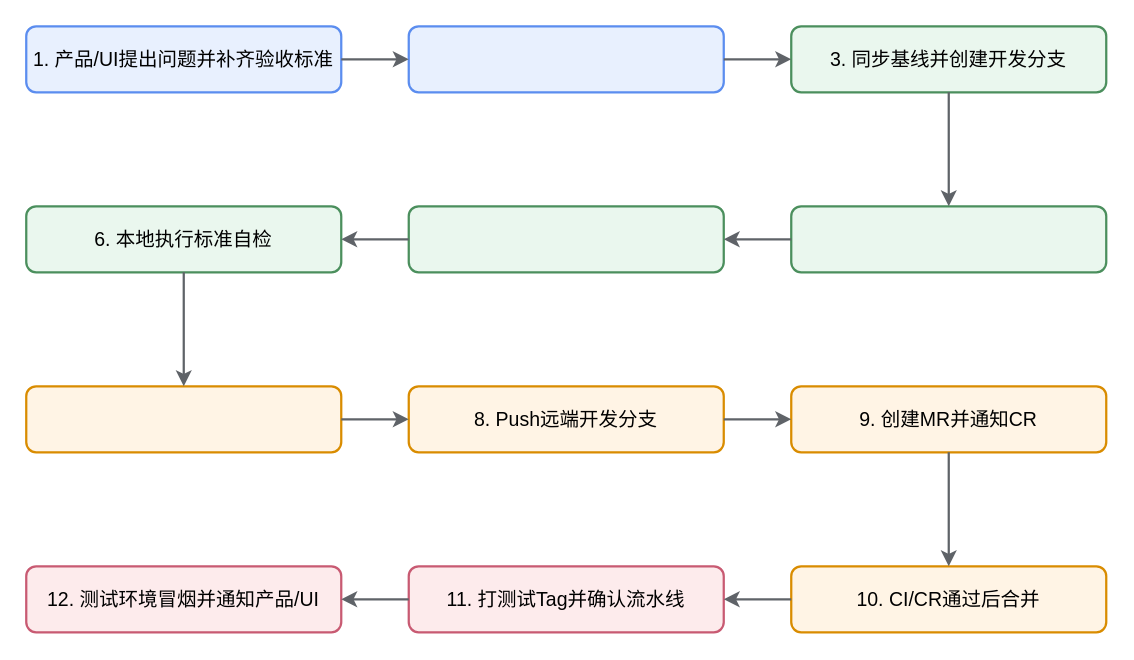
The diagram is 1134 pixels wide and 660 high, and some of its shapes have lost their labels. Here are the shapes that lost their labels. From the top down, the box of each, then its label:
(407, 24, 724, 93): 2. 研发澄清需求
(407, 204, 724, 273): 5. Agent辅助修改代码
(789, 204, 1107, 273): 4. 分析影响范围与风险
(24, 384, 342, 453): 7. 人工自审与功能自测
